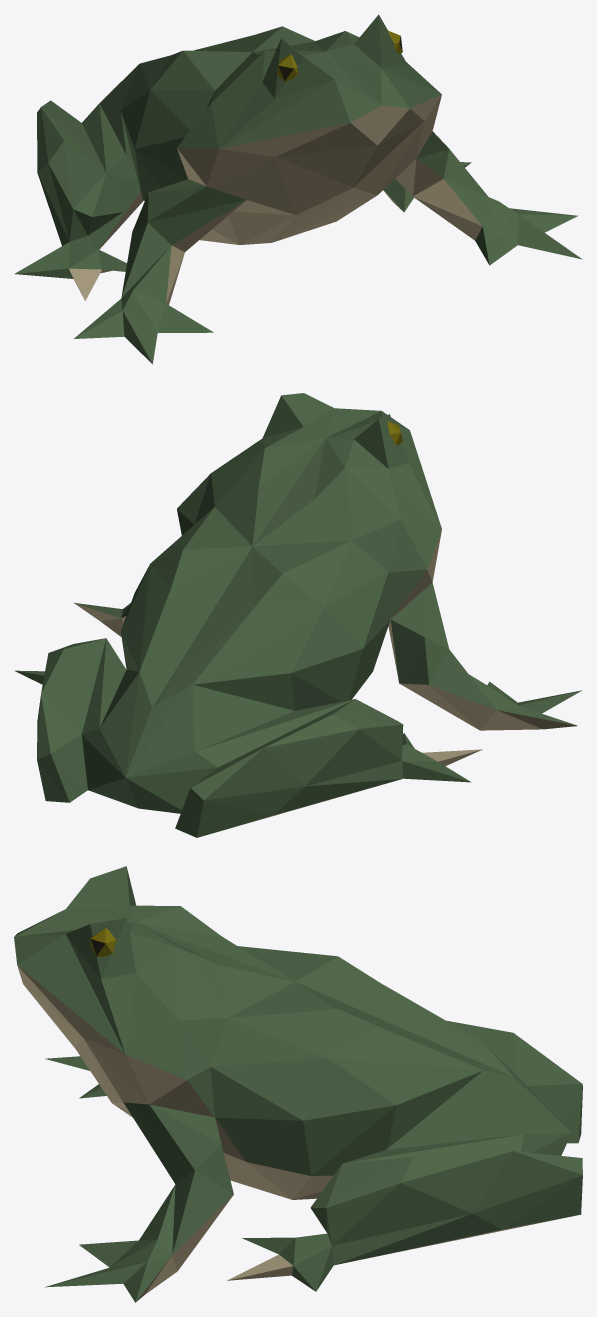
Rendered from frog.glb.
3 renders of one model, top to bottom at view 1: azimuth 30°, elevation 25°; view 2: azimuth 150°, elevation 25°; view 3: azimuth 270°, elevation 25°, orthographic. The views are drawn at different scales.
Parts seen in each view (by area): view 1: frog_0; view 2: frog_0; view 3: frog_0.
Part boxes in pixels (left/top/right/bottom): frog_0: left=14, top=14, right=582, bottom=364; frog_0: left=14, top=393, right=581, bottom=837; frog_0: left=14, top=866, right=582, bottom=1302.
Size of the model in its own units: 0.3614 by 0.1806 by 0.3238.
